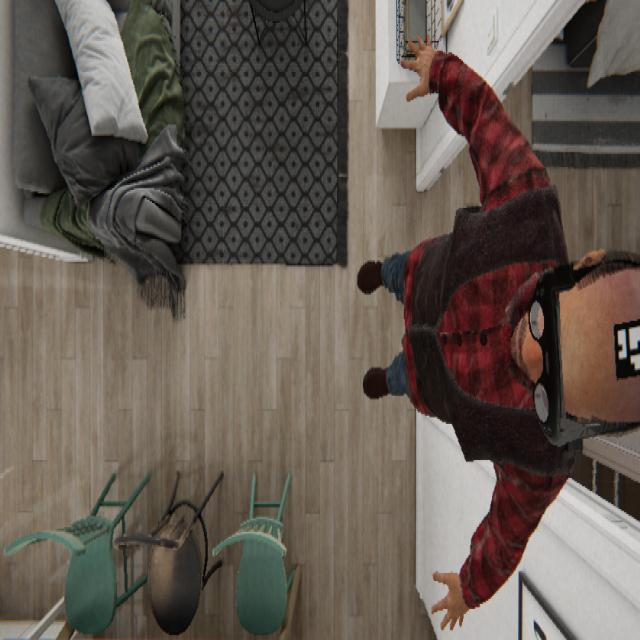Human: (356, 31, 638, 630)
